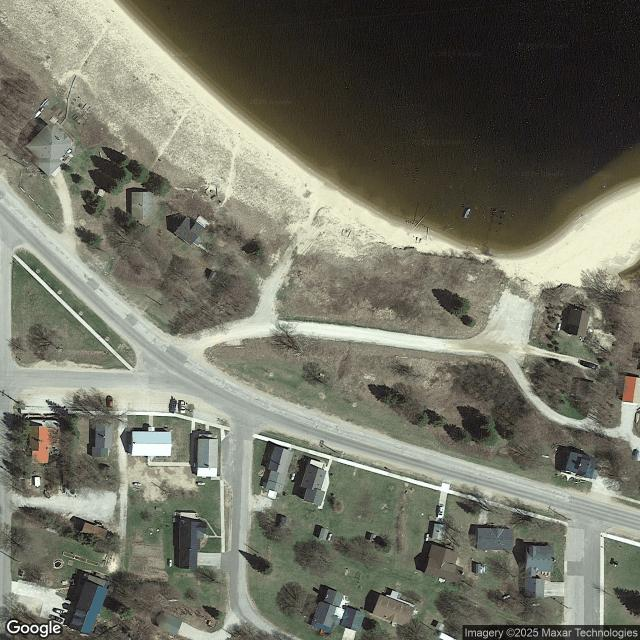Propane: (502, 594, 511, 600), (290, 472, 296, 481), (327, 533, 333, 542), (557, 322, 562, 332), (425, 533, 430, 542), (541, 454, 549, 459), (532, 603, 540, 607), (134, 483, 142, 487), (169, 559, 173, 567), (197, 482, 206, 485)
